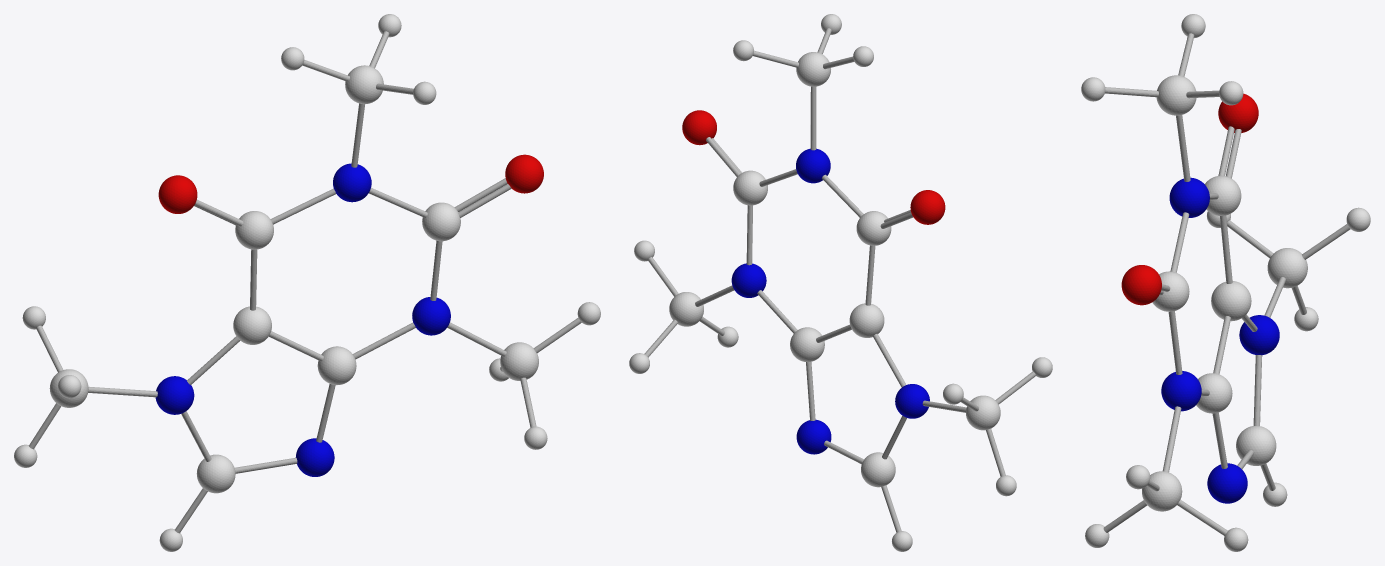
File: Cn1cnc2c1c__O_n_C_c__O_n2C.glb
The picture shows the model from 3 angles, left to right: view 1: azimuth 30°, elevation 25°; view 2: azimuth 150°, elevation 25°; view 3: azimuth 270°, elevation 25°; orthographic projection. The views are drawn at different scales.
Parts seen in each view (by area): view 1: world; view 2: world; view 3: world.
Boxes of the visible parts, bbox=[...] form: world: bbox=[14, 14, 600, 551]; world: bbox=[629, 14, 1052, 551]; world: bbox=[1081, 14, 1370, 551].
Size of the model in its own units: 7.48 by 7.27 by 3.58.
